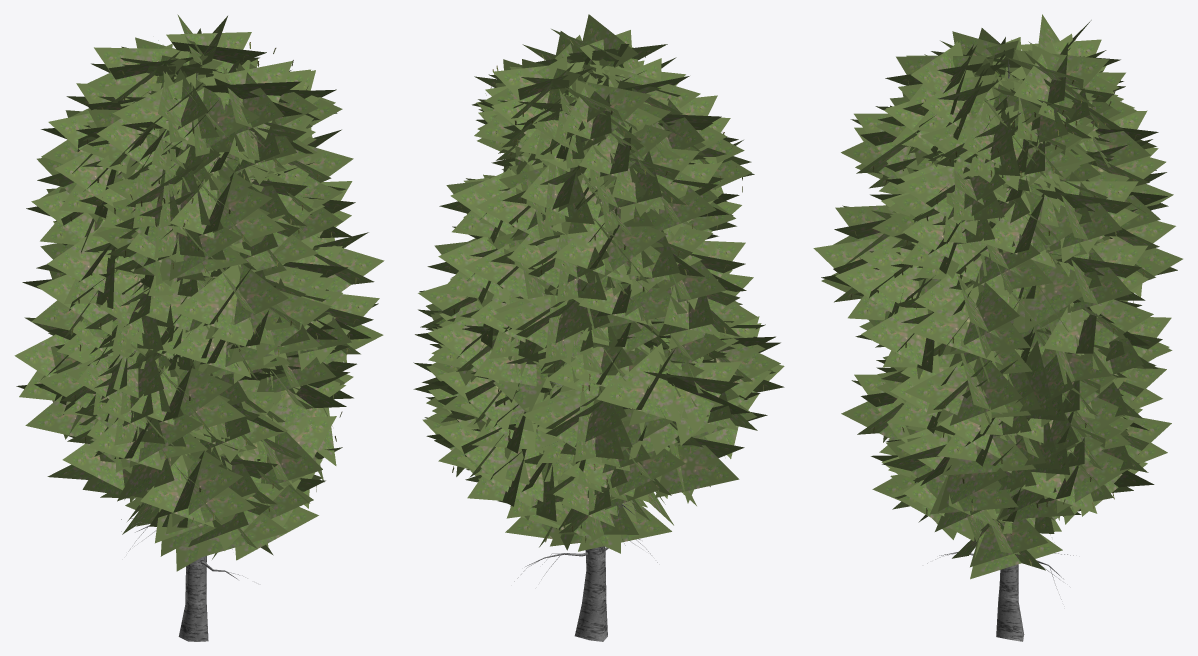
File: Populus_Tremuloides_Spring_Adult.glb
The picture shows the model from 3 angles, left to right: view 1: azimuth 30°, elevation 25°; view 2: azimuth 150°, elevation 25°; view 3: azimuth 270°, elevation 25°; orthographic projection. The views are drawn at different scales.
Visible parts, largest first — view 1: Populus_Tremuloides_Spring_Adult__LOD3; view 2: Populus_Tremuloides_Spring_Adult__LOD3; view 3: Populus_Tremuloides_Spring_Adult__LOD3.
Part boxes in pixels (box(x1,y1,x2,y2)): Populus_Tremuloides_Spring_Adult__LOD3: box(14, 14, 384, 641); Populus_Tremuloides_Spring_Adult__LOD3: box(413, 14, 784, 641); Populus_Tremuloides_Spring_Adult__LOD3: box(813, 14, 1182, 641).
Size of the model in its own units: 11.07 by 18.6 by 10.49.
3 materials, 3 textured.
